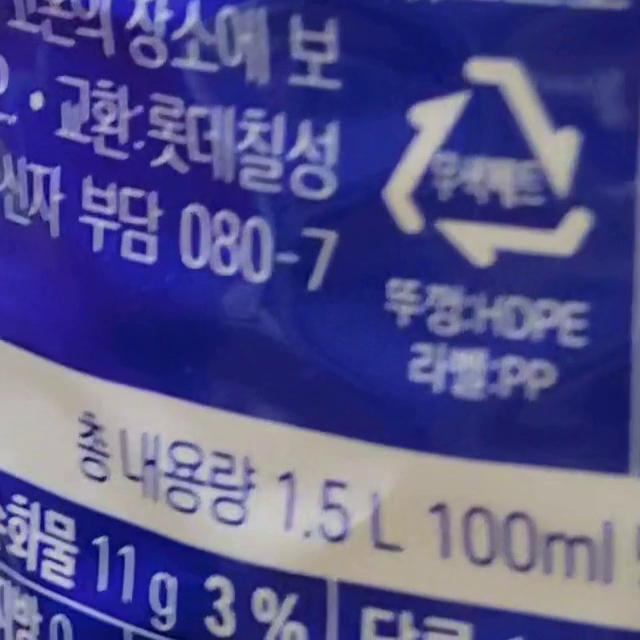ColorlessPet: (384, 58, 592, 272)
